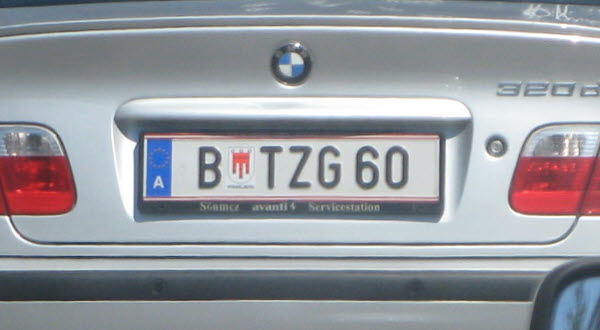license_plate: (142, 132, 441, 203)
